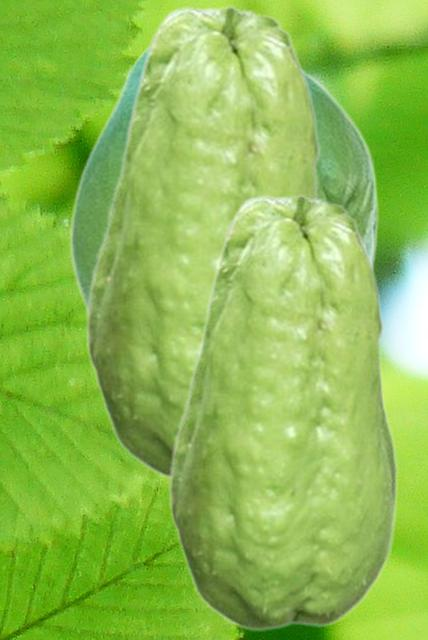sayote: (84, 4, 323, 482), (167, 193, 399, 632), (68, 44, 378, 314)
